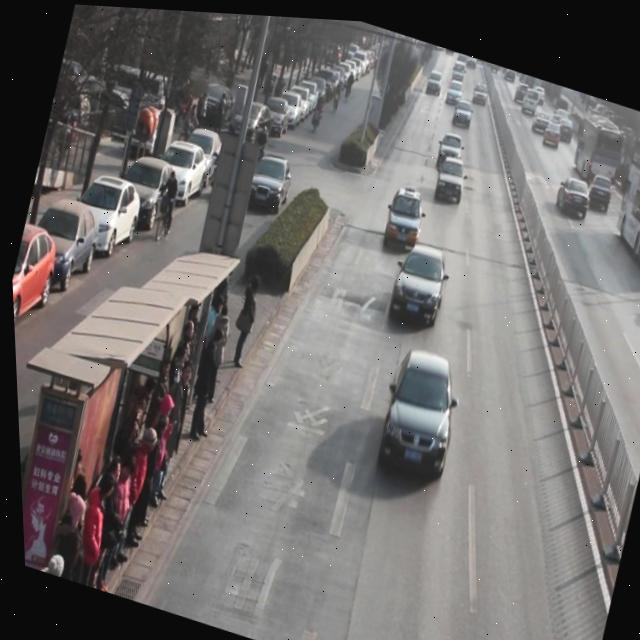car: (367, 337, 470, 479), (382, 230, 454, 327), (379, 178, 429, 249), (430, 145, 471, 201), (551, 166, 595, 216), (432, 123, 468, 170), (584, 163, 617, 207), (449, 88, 477, 127), (541, 111, 565, 142)
van: (564, 97, 630, 181), (603, 122, 640, 266)
